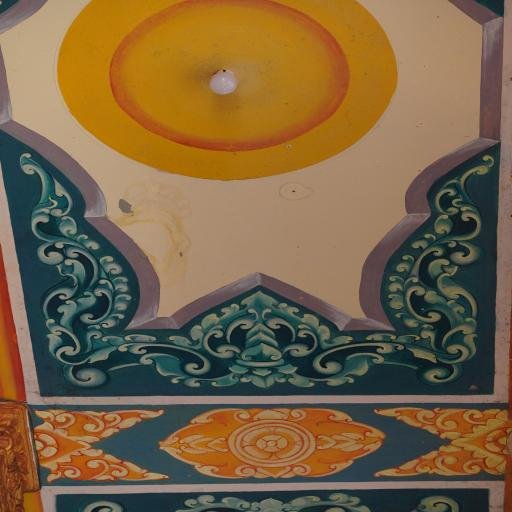hoa: (165, 404, 386, 484), (30, 407, 182, 487), (372, 407, 512, 482)
la: (8, 150, 158, 390), (364, 146, 500, 392), (154, 278, 387, 400), (172, 491, 379, 512), (410, 493, 474, 512), (70, 497, 136, 512)
